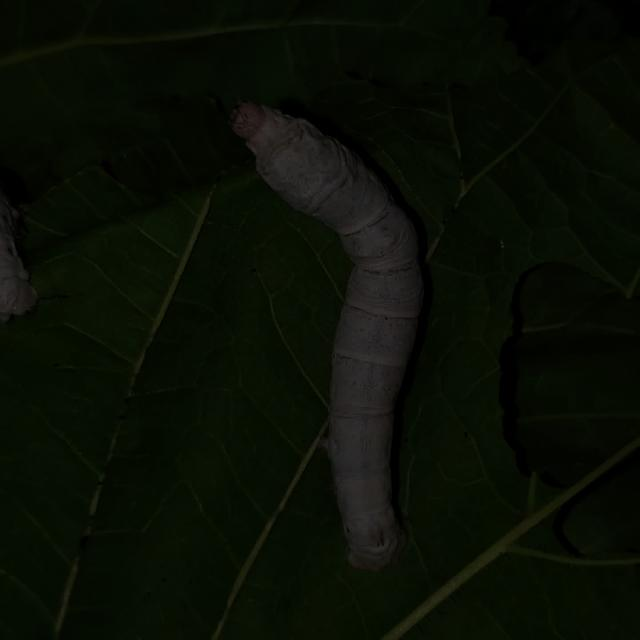Healthy: (219, 76, 469, 594)
